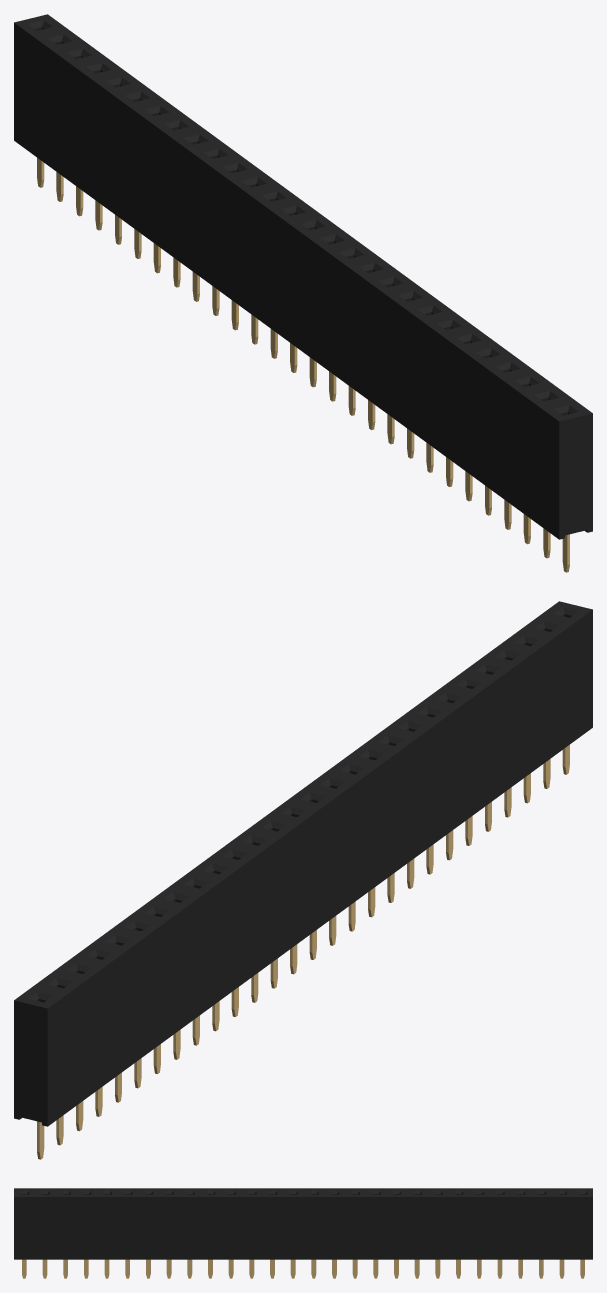
File: kc-pinsocket_1x28_p2.54mm_vertical.glb
The picture shows the model from 3 angles, top to bottom: view 1: azimuth 30°, elevation 25°; view 2: azimuth 150°, elevation 25°; view 3: azimuth 270°, elevation 25°; orthographic projection. The views are drawn at different scales.
Visible parts, largest first — view 1: 0_0_0_0, 0.75_0.5_0.25_0.9; view 2: 0_0_0_0, 0.75_0.5_0.25_0.9; view 3: 0_0_0_0, 0.75_0.5_0.25_0.9.
Boxes of the visible parts, x1,y1,x2,y2 form: 0_0_0_0: (14, 14, 592, 539); 0.75_0.5_0.25_0.9: (37, 157, 569, 572); 0_0_0_0: (14, 601, 592, 1126); 0.75_0.5_0.25_0.9: (37, 744, 569, 1159); 0_0_0_0: (14, 1188, 592, 1259); 0.75_0.5_0.25_0.9: (22, 1259, 584, 1278).
Bounding box in the file's own units: 0.2544 × 1.16 × 7.11.
